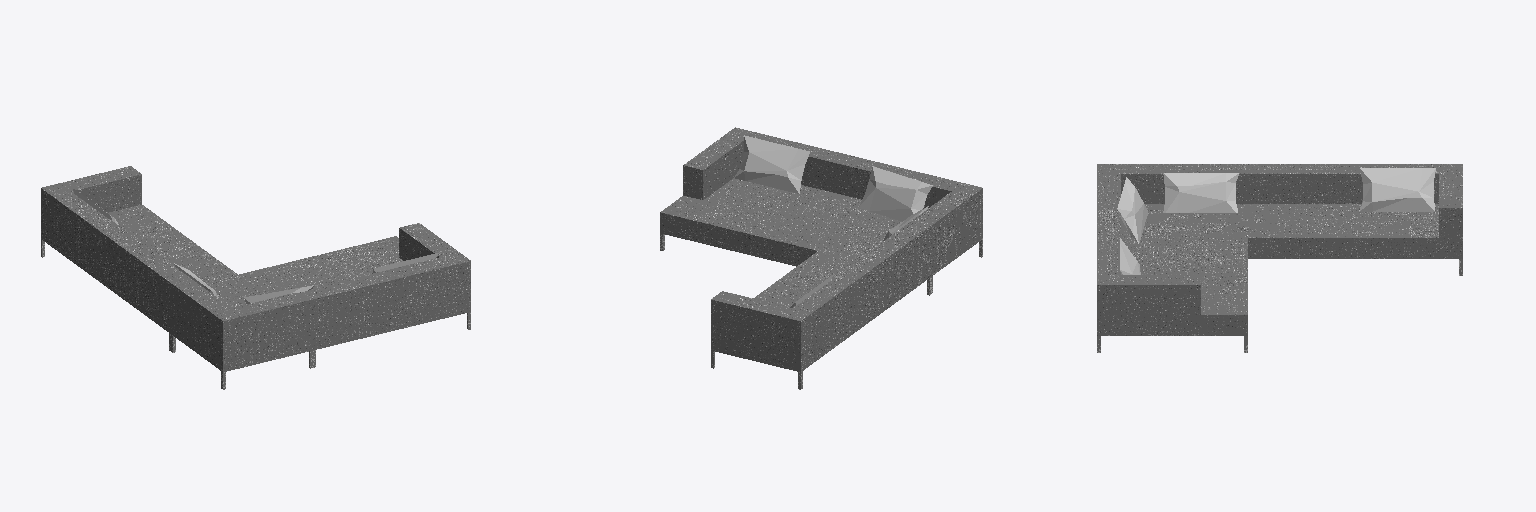
3 views of the same model, side by side, from view 1: azimuth 30°, elevation 25°; view 2: azimuth 150°, elevation 25°; view 3: azimuth 270°, elevation 25° (orthographic).
Parts seen in each view (by area): view 1: mesh2.001_mesh2-geometry, mesh17.001_mesh17-geometry, mesh10.001_mesh10-geometry; view 2: mesh2.001_mesh2-geometry, mesh17.001_mesh17-geometry, mesh10.001_mesh10-geometry, mesh15.005_mesh15-geometry, mesh15.006_mesh15-geometry; view 3: mesh2.001_mesh2-geometry, mesh17.001_mesh17-geometry, mesh10.001_mesh10-geometry, mesh15.007_mesh15-geometry, mesh15.008_mesh15-geometry, mesh15.006_mesh15-geometry.
Boxes of the visible parts, <box> form: mesh2.001_mesh2-geometry: <box>41,166,260,333</box>; mesh17.001_mesh17-geometry: <box>239,223,470,349</box>; mesh10.001_mesh10-geometry: <box>171,279,312,371</box>; mesh2.001_mesh2-geometry: <box>711,221,930,371</box>; mesh17.001_mesh17-geometry: <box>660,127,891,266</box>; mesh10.001_mesh10-geometry: <box>842,166,982,276</box>; mesh15.005_mesh15-geometry: <box>734,135,809,193</box>; mesh15.006_mesh15-geometry: <box>859,166,932,221</box>; mesh2.001_mesh2-geometry: <box>1201,164,1462,258</box>; mesh17.001_mesh17-geometry: <box>1097,208,1247,335</box>; mesh10.001_mesh10-geometry: <box>1097,164,1200,237</box>; mesh15.007_mesh15-geometry: <box>1359,168,1435,211</box>; mesh15.008_mesh15-geometry: <box>1163,173,1238,212</box>; mesh15.006_mesh15-geometry: <box>1117,177,1147,243</box>.
Size of the model in its own units: 0.6081 by 0.1723 by 0.7749.
Materials: 4 (1 with a texture image).